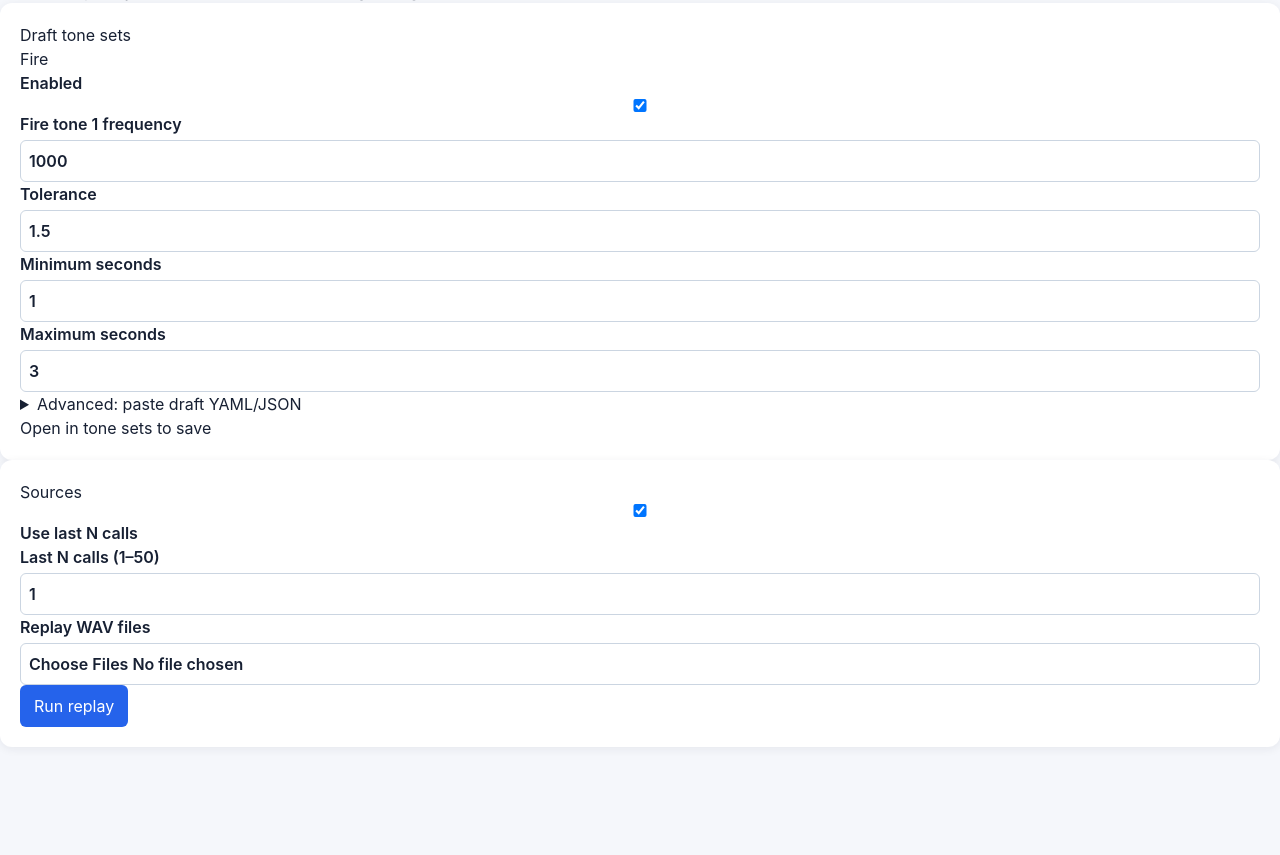
Test: M19m replay admin UI › renders unknown summary and item values as text
expect the text "Fire" is shown: met, box [20, 47, 48, 71]
Click the button "Run replay": (74, 706) [20, 685, 128, 727]
(page scrolled)
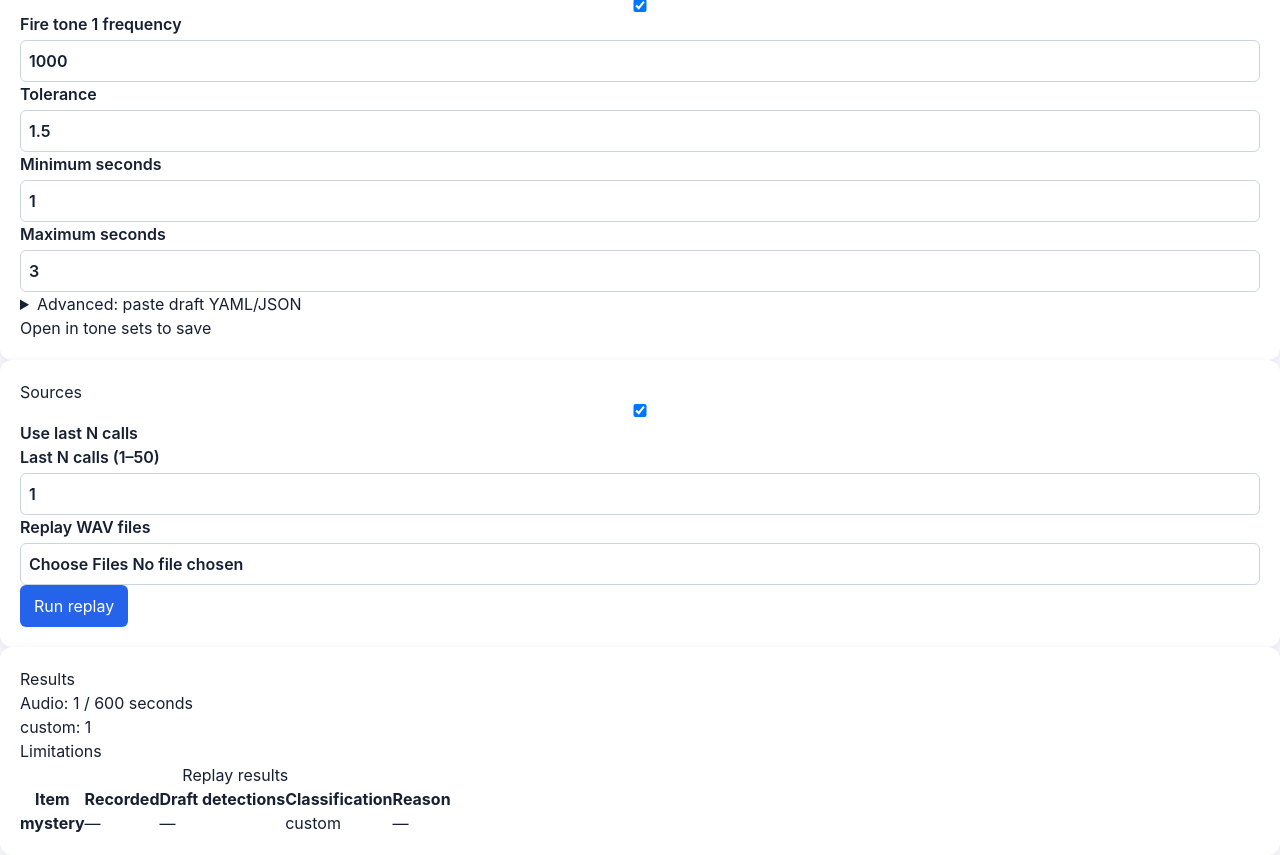
expect the text "custom" is shown: met, box [285, 813, 341, 833]
expect the column heading "mystery" is shown: met, box [20, 811, 85, 835]
